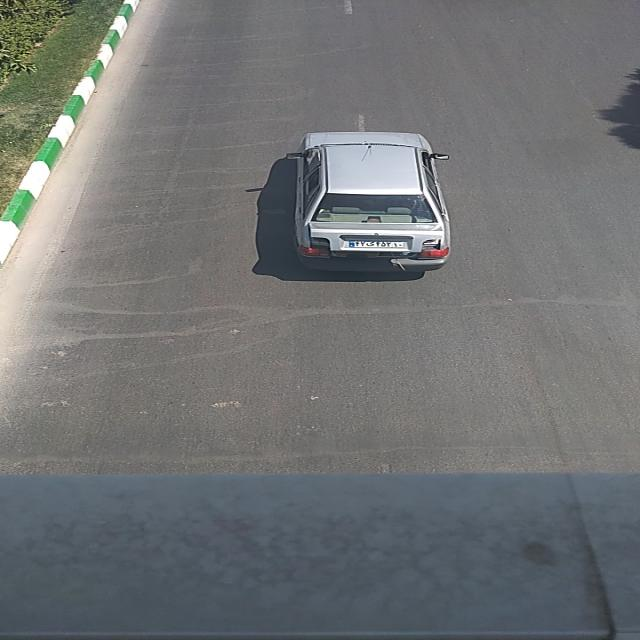car: (278, 130, 452, 271)
